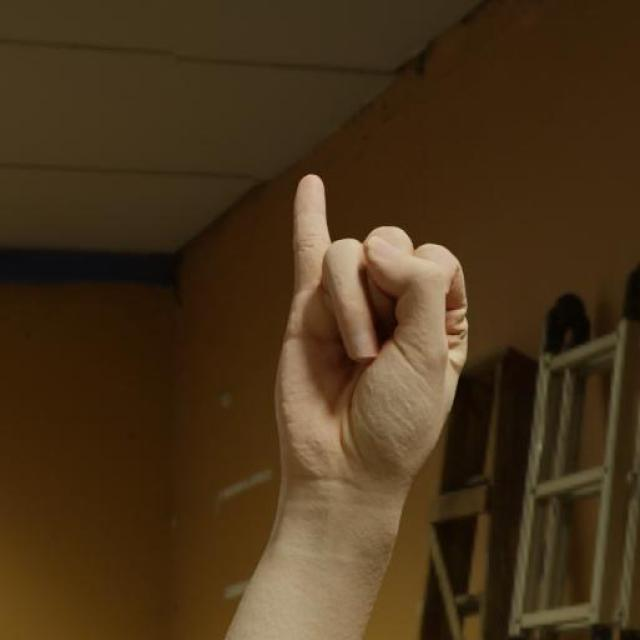I: (273, 170, 471, 480)
